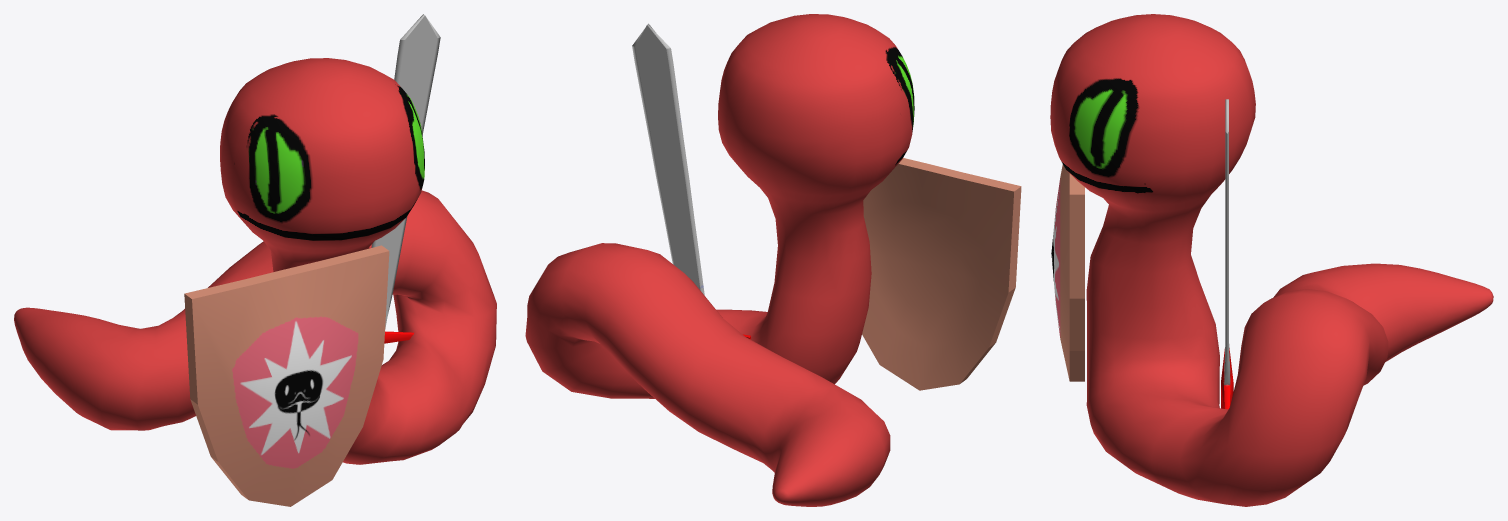
Rendered from redkight.fbx.
3 views of the same model, side by side, from view 1: azimuth 30°, elevation 25°; view 2: azimuth 150°, elevation 25°; view 3: azimuth 270°, elevation 25° (orthographic). The views are drawn at different scales.
Parts seen in each view (by area): view 1: pCylinder1, pCylinder2, pCube1; view 2: pCylinder1, pCylinder2, pCube1; view 3: pCylinder1, pCylinder2, pCube1.
Boxes of the visible parts, x1=… form: pCylinder1: x1=14, y1=58, x2=496, y2=464; pCylinder2: x1=184, y1=245, x2=389, y2=506; pCube1: x1=371, y1=14, x2=440, y2=343; pCylinder1: x1=525, y1=14, x2=914, y2=506; pCylinder2: x1=862, y1=158, x2=1021, y2=390; pCube1: x1=632, y1=23, x2=750, y2=339; pCylinder1: x1=1050, y1=14, x2=1493, y2=506; pCylinder2: x1=1051, y1=164, x2=1084, y2=381; pCube1: x1=1221, y1=99, x2=1233, y2=409.
Bounding box in the file's own units: 3.1 × 2.98 × 2.98.
